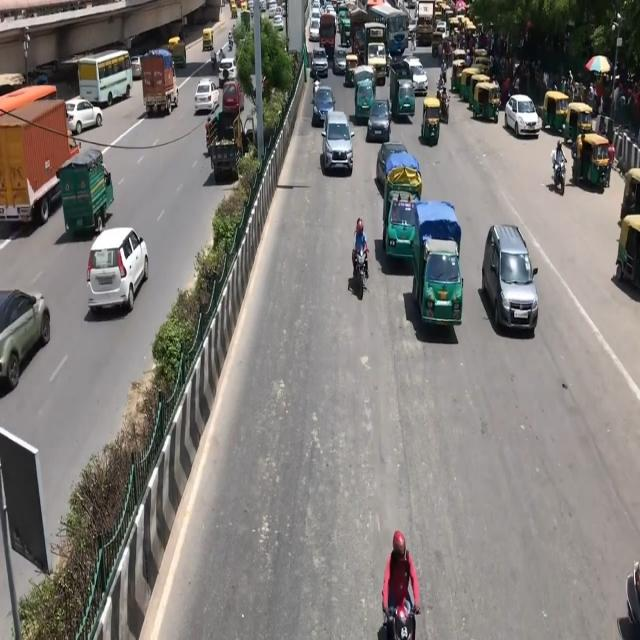Bike: (350, 215, 375, 308)
